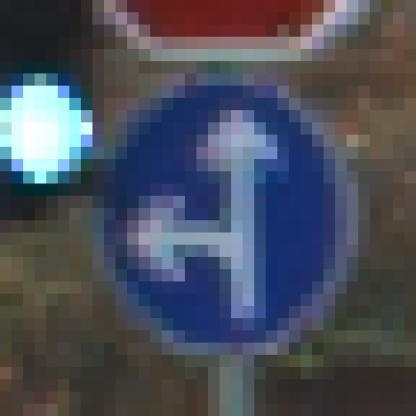Straight or Left: (70, 62, 348, 356)
